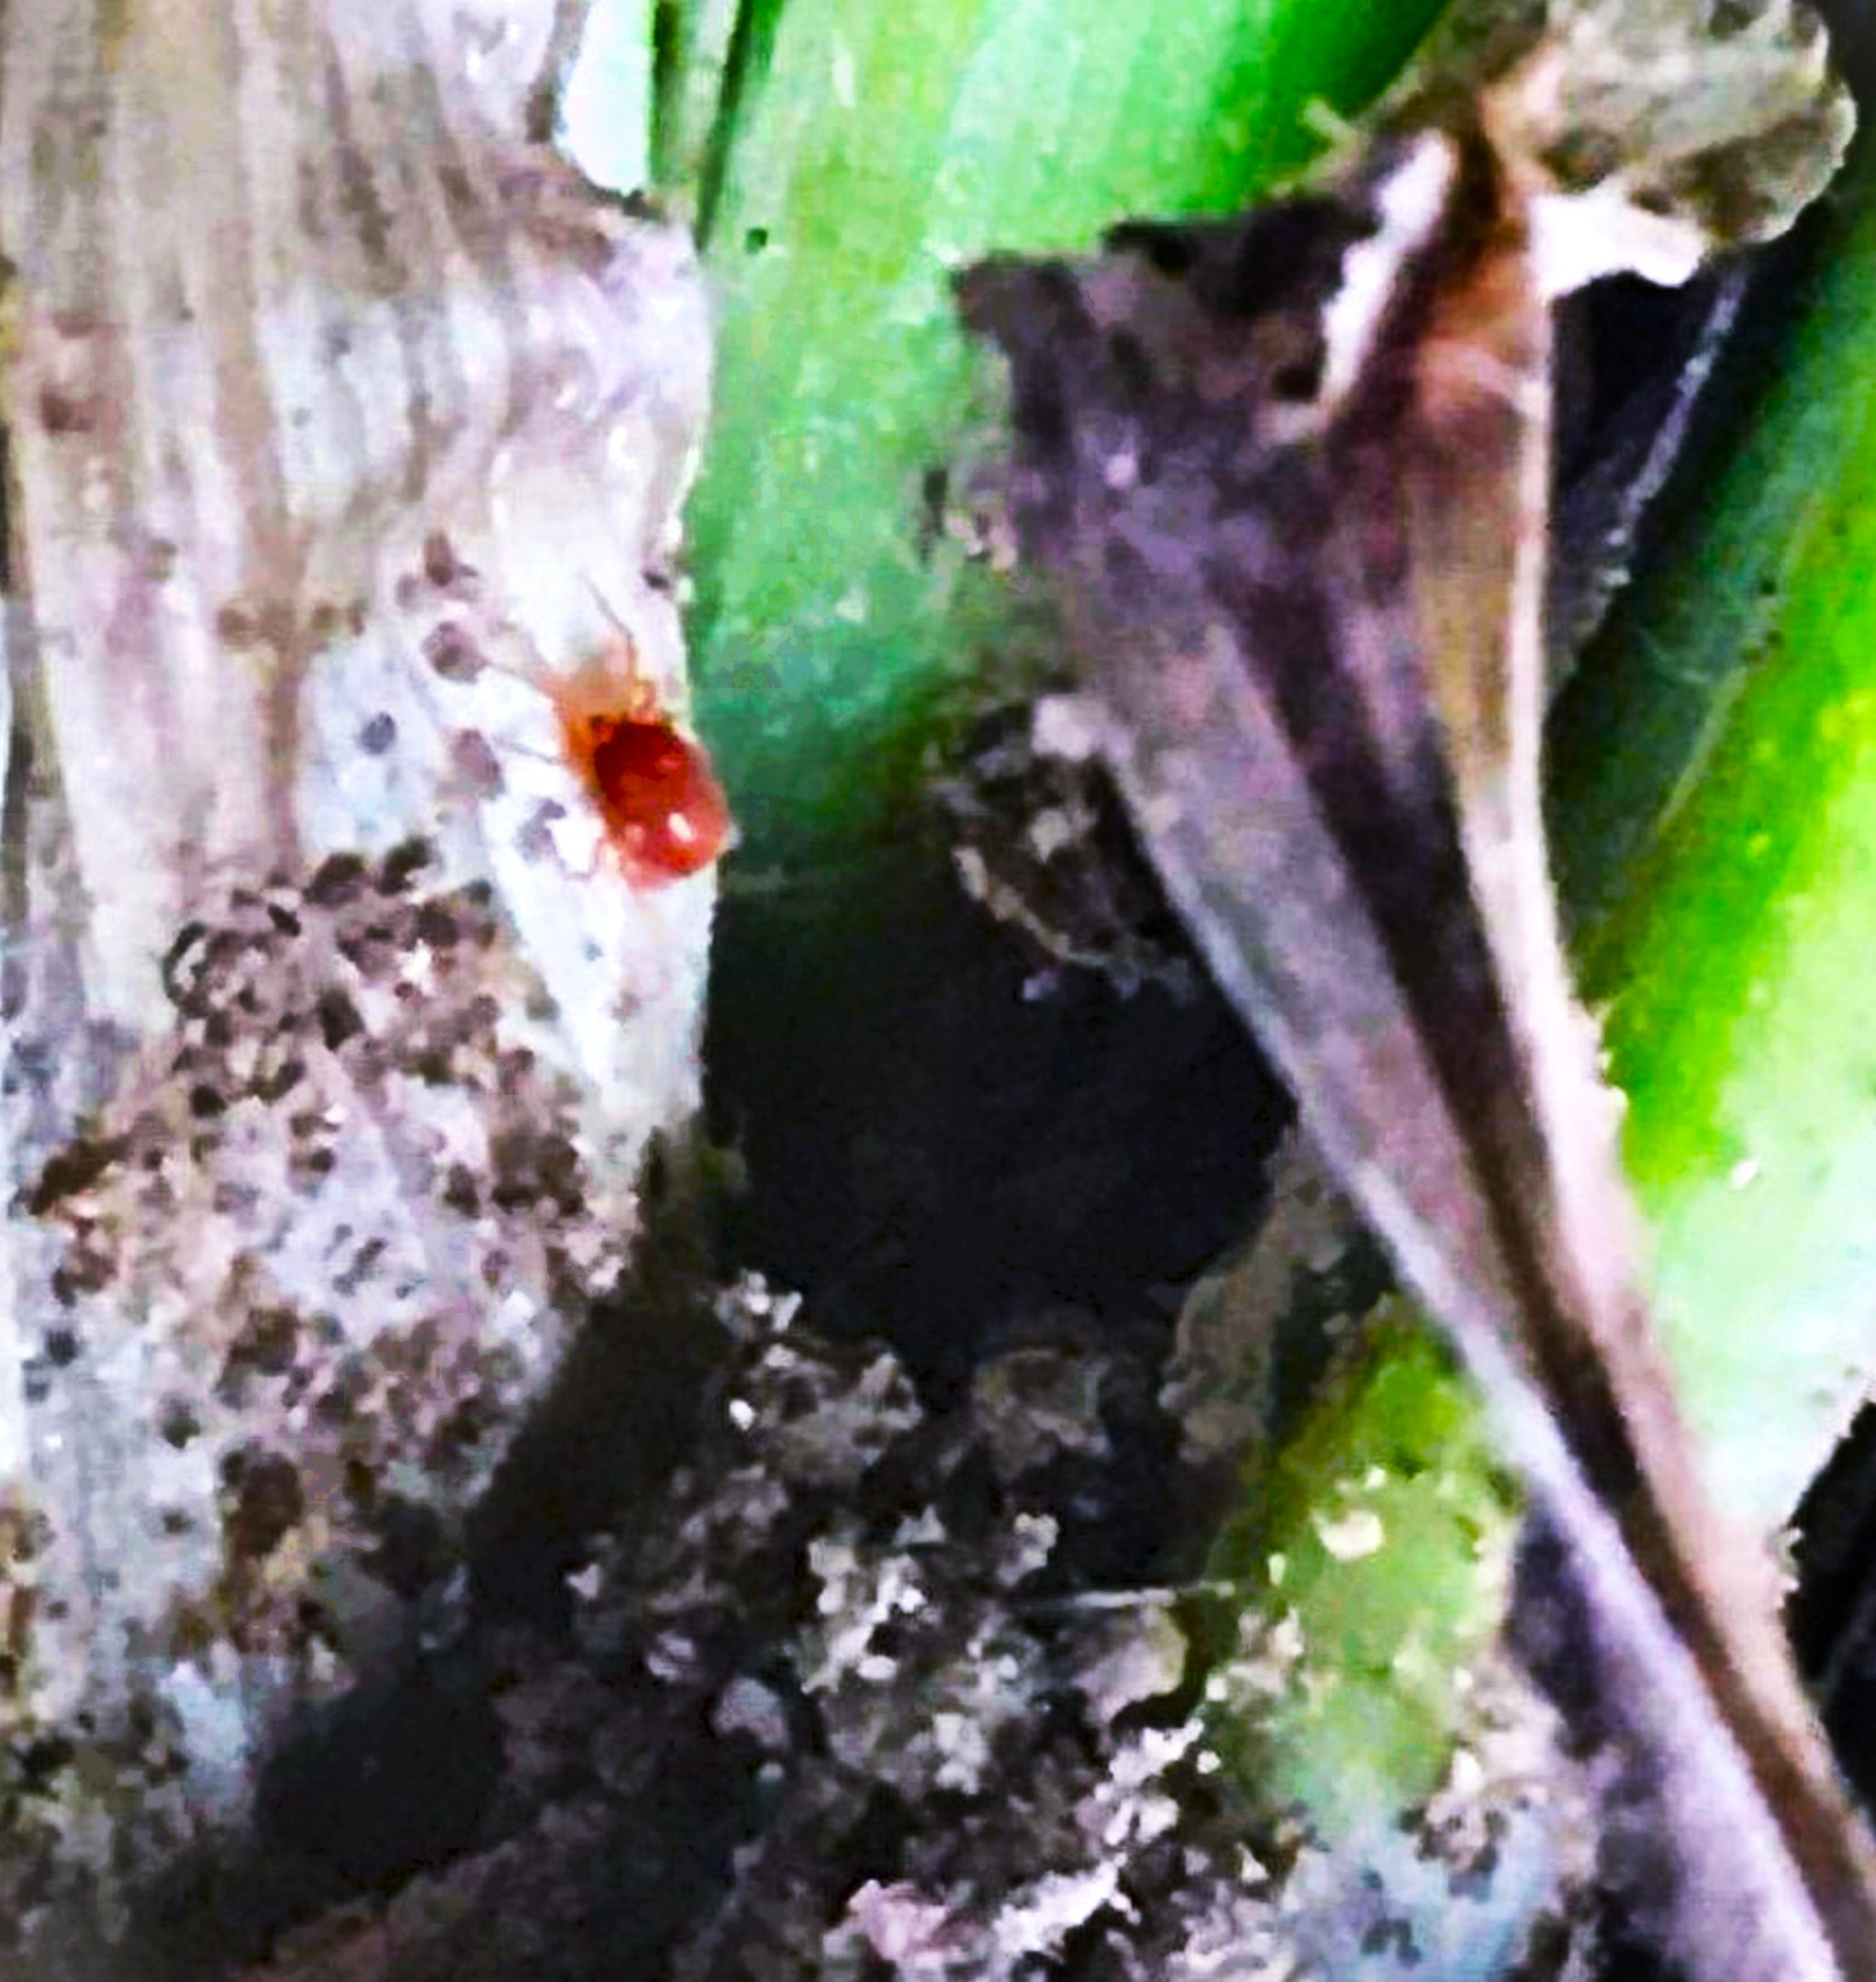Wheat Red Spider: (467, 585, 760, 929)
